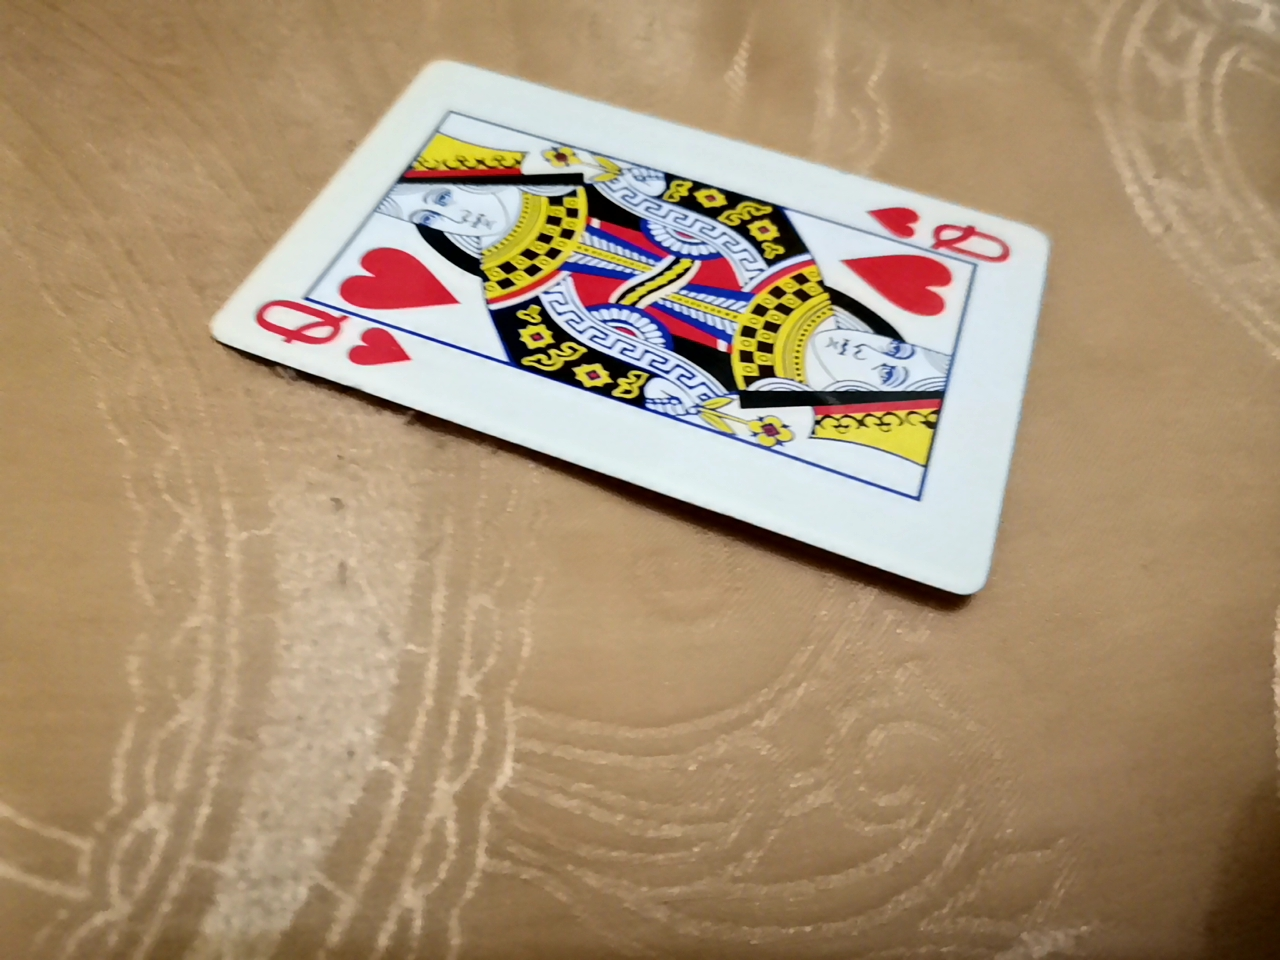hx q: (203, 74, 1089, 596)
